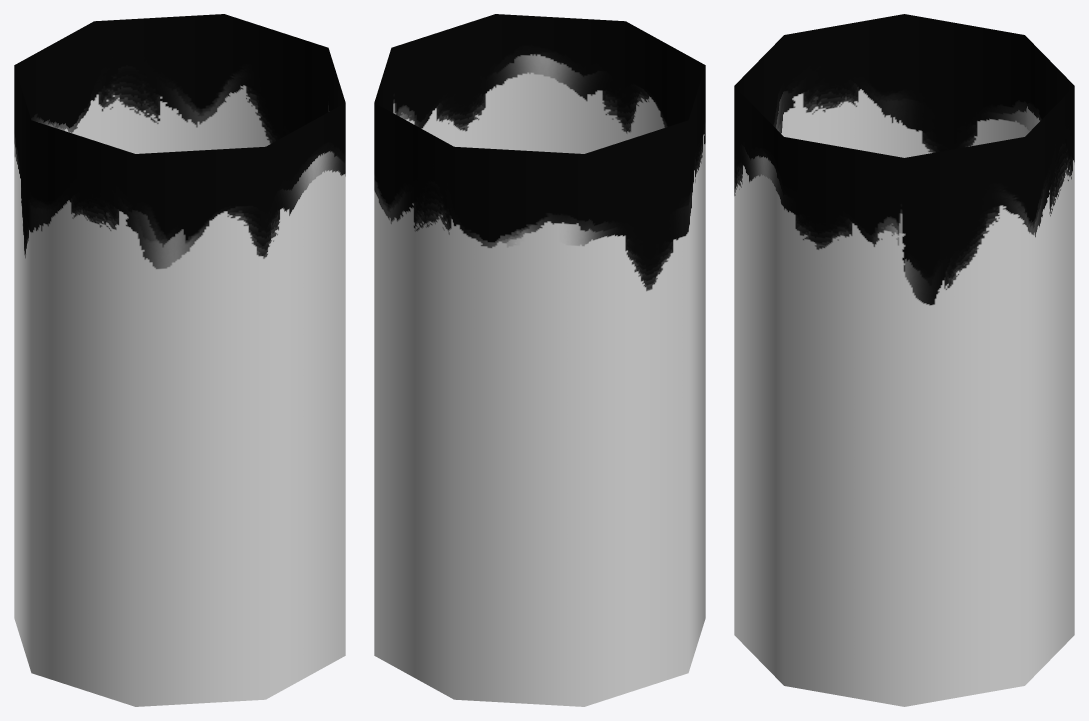
Rendered from lgiht_shin.dae.
3 views of the same model, side by side, from view 1: azimuth 30°, elevation 25°; view 2: azimuth 150°, elevation 25°; view 3: azimuth 270°, elevation 25° (orthographic).
Parts seen in each view (by area): view 1: Circle; view 2: Circle; view 3: Circle.
Part boxes in pixels (box(x1,y1,x2,y2)): Circle: box(14, 14, 345, 706); Circle: box(374, 14, 705, 706); Circle: box(734, 14, 1074, 706).
Size of the model in its own units: 2 by 2 by 3.56.
1 material, 1 textured.
